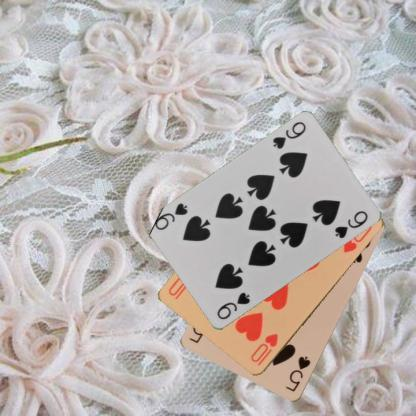10h: (248, 331, 280, 368)
5s: (283, 353, 312, 394)
9s: (270, 119, 307, 151), (214, 290, 251, 321)
